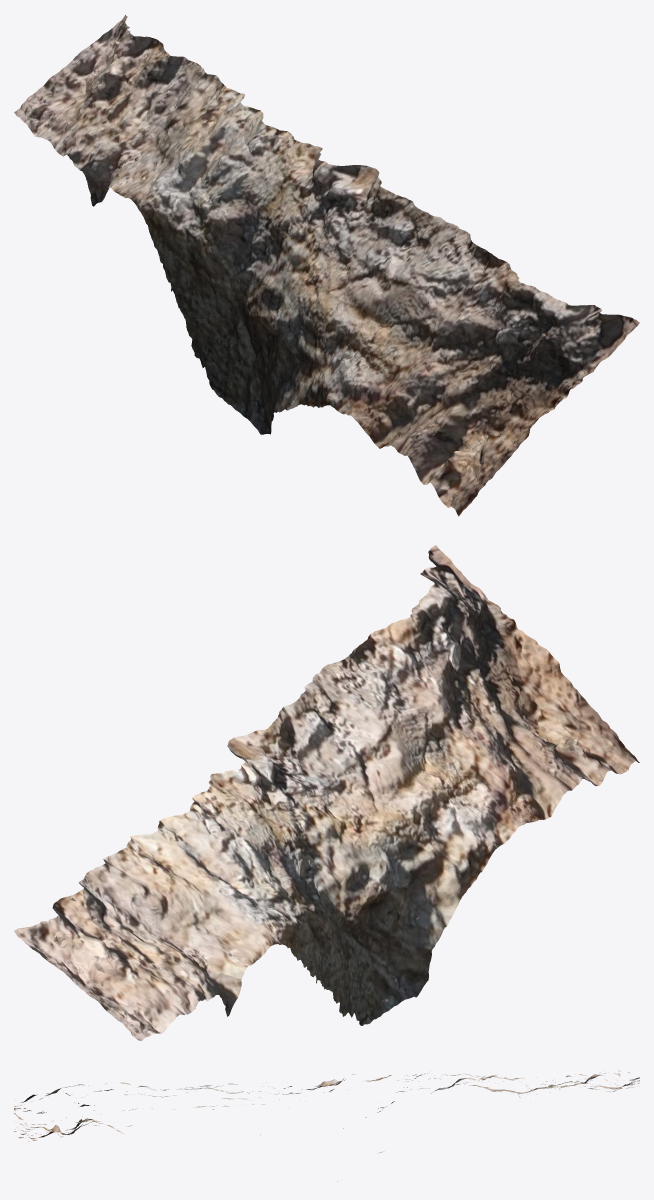
3 views of the same model, one above another, from view 1: azimuth 30°, elevation 25°; view 2: azimuth 150°, elevation 25°; view 3: azimuth 270°, elevation 25° (orthographic). The views are drawn at different scales.
Size of the model in its own units: 1.8 by 2.01 by 7.63.
Materials: 1 (1 with a texture image).
